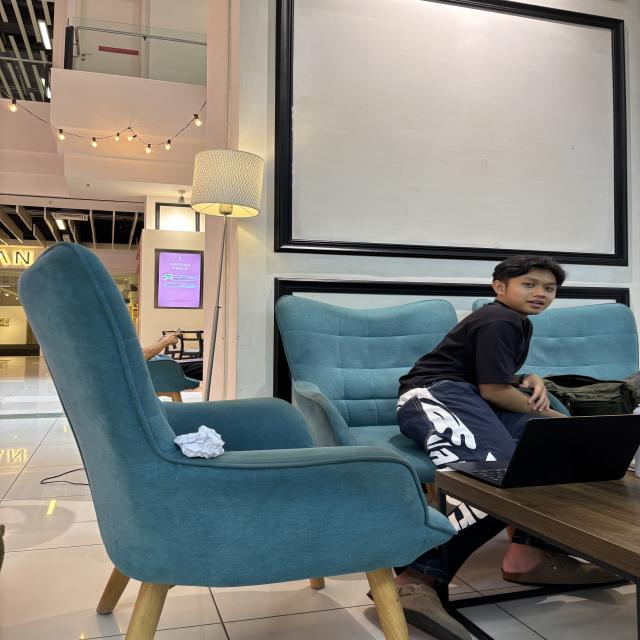crumpled_paper: (173, 422, 230, 460)
